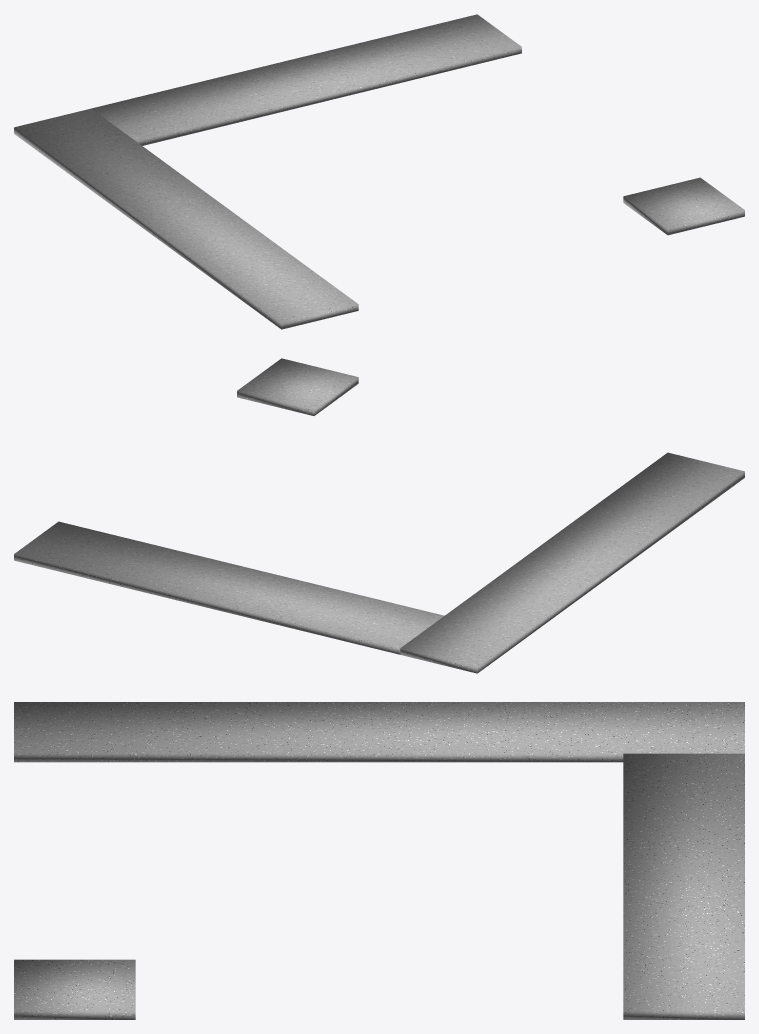
The model's file is NROAD_15x15_turn.obj.
3 renders of one model, top to bottom at view 1: azimuth 30°, elevation 25°; view 2: azimuth 150°, elevation 25°; view 3: azimuth 270°, elevation 25°, orthographic. The views are drawn at different scales.
Parts seen in each view (by area): view 1: Cube1; view 2: Cube1; view 3: Cube1.
Part boxes in pixels (left/top/right/bottom): Cube1: left=14, top=14, right=744, bottom=329; Cube1: left=14, top=358, right=744, bottom=673; Cube1: left=14, top=702, right=744, bottom=1019.
Bounding box in the file's own units: 15 × 0.2 × 15.
